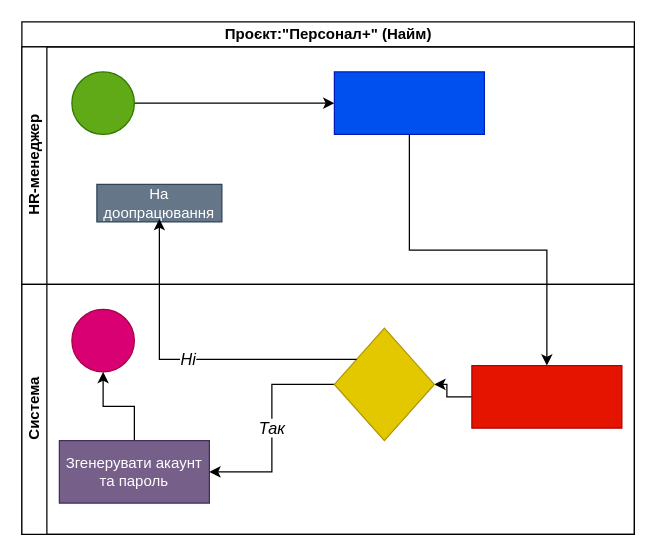
This 656x556 diagram has some shape labels left out. Here are the shapes that lost their labels. From the top down, the centre of each, then its label:
At (x=408, y=102): "Заповнити картку кандидата".
At (x=383, y=384): "Унікальні?".
At (x=546, y=396): "Перевірити унікальність даних".
